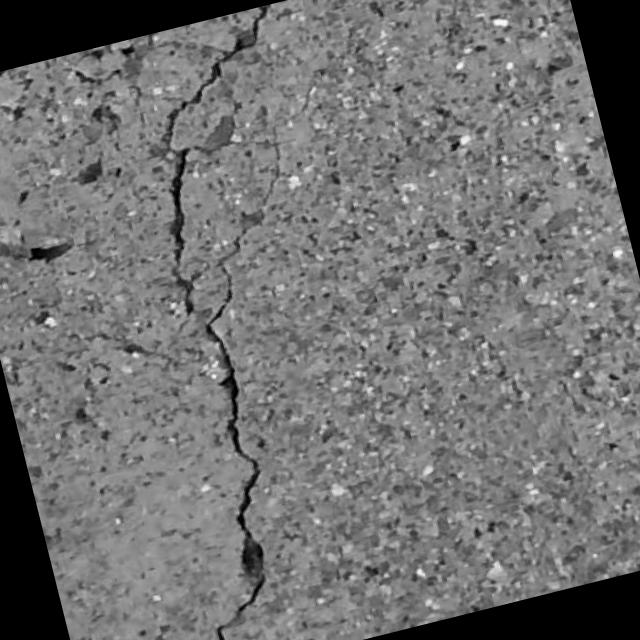crack: (40, 4, 425, 640)
